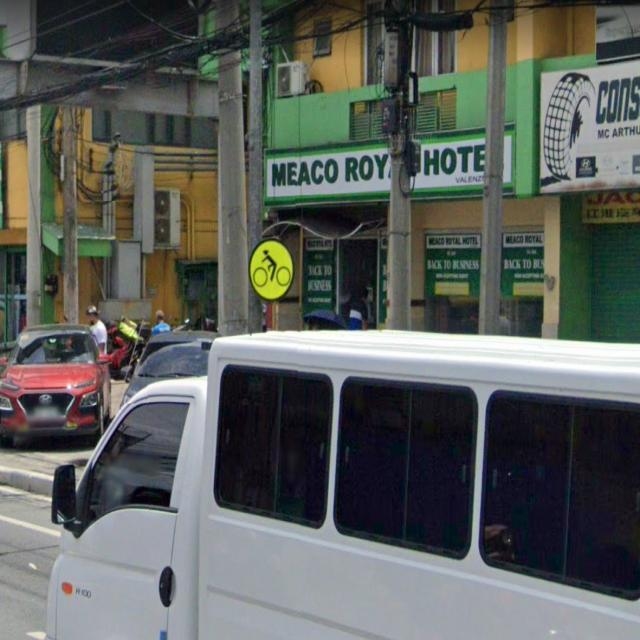bike lane: (244, 232, 301, 311)
